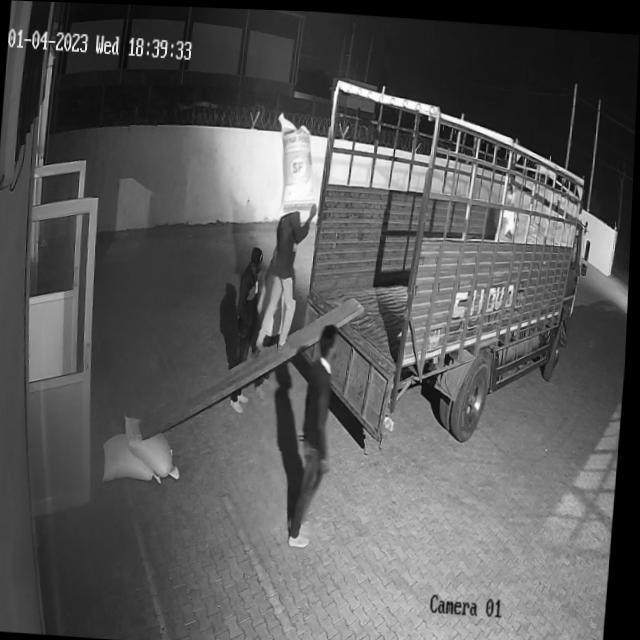sack: (272, 110, 321, 211), (123, 413, 186, 478), (103, 429, 169, 484)
